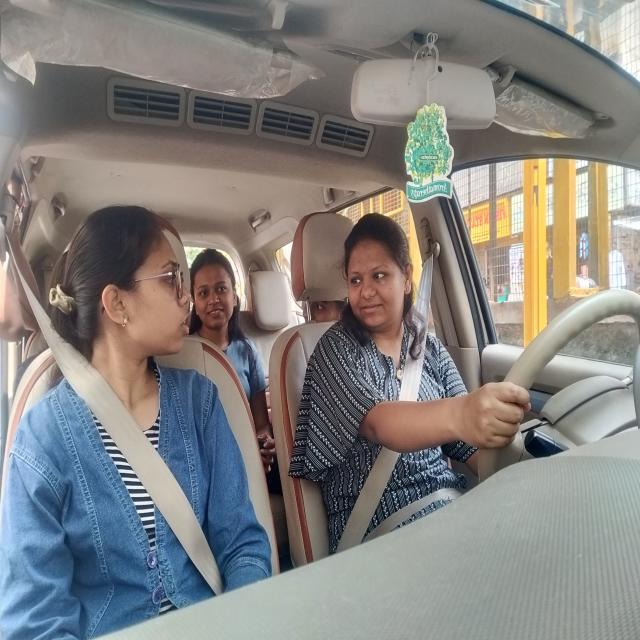person: (54, 177, 196, 379), (331, 202, 426, 350), (191, 218, 251, 344)
